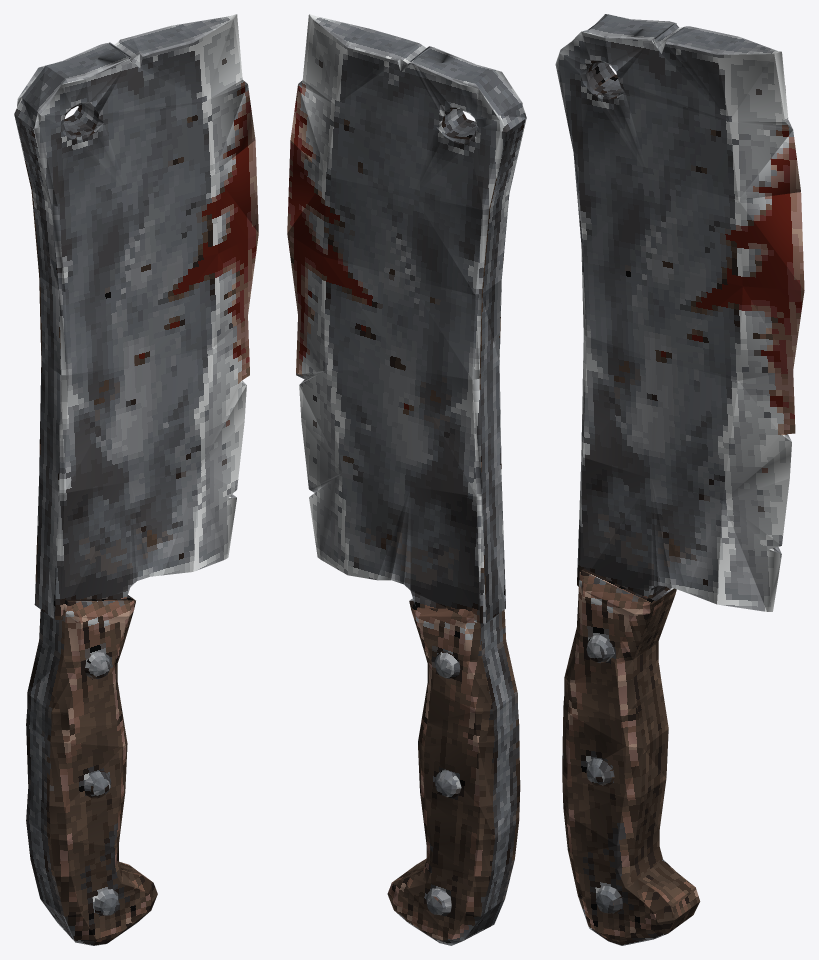
The model's file is cleaver.glb.
The picture shows the model from 3 angles, left to right: view 1: azimuth 30°, elevation 25°; view 2: azimuth 150°, elevation 25°; view 3: azimuth 330°, elevation 25°; orthographic projection. The views are drawn at different scales.
Parts seen in each view (by area): view 1: gear_cleaver; view 2: gear_cleaver; view 3: gear_cleaver.
Boxes of the visible parts, x1=… form: gear_cleaver: x1=14, y1=14, x2=258, y2=945; gear_cleaver: x1=287, y1=14, x2=526, y2=945; gear_cleaver: x1=555, y1=14, x2=804, y2=945.
Bounding box in the file's own units: 0.274 × 1 × 0.0973.
Materials: 1 (1 with a texture image).
